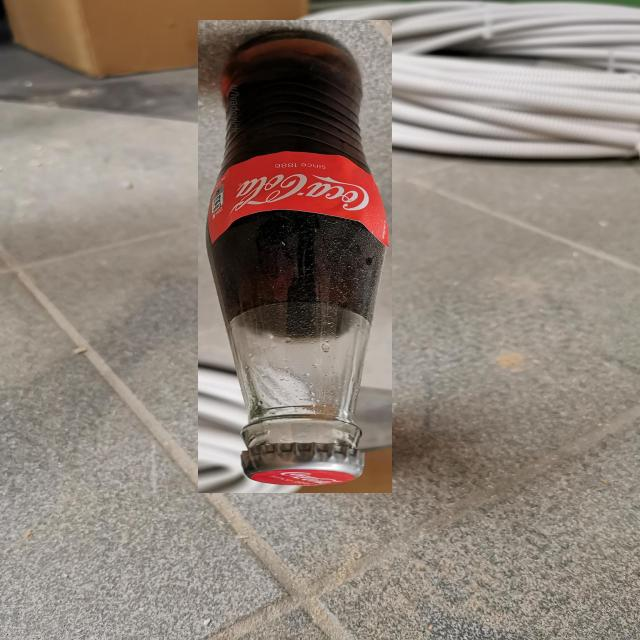coca-cola: (198, 20, 392, 493)
